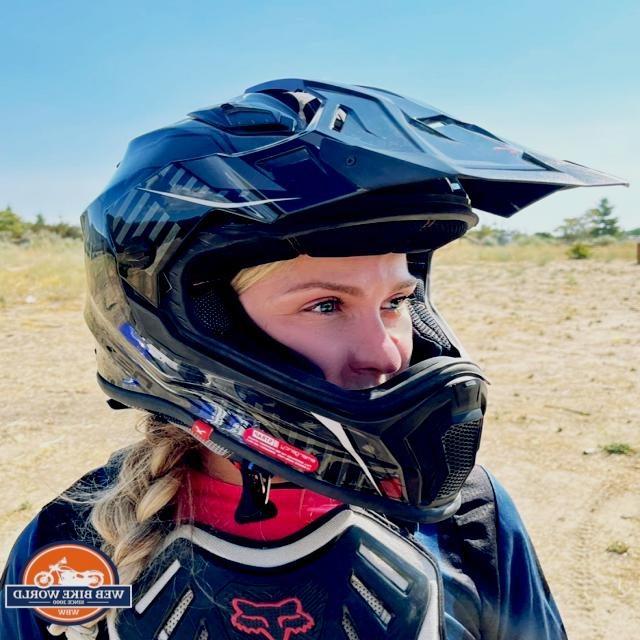helmet: (70, 93, 546, 476)
